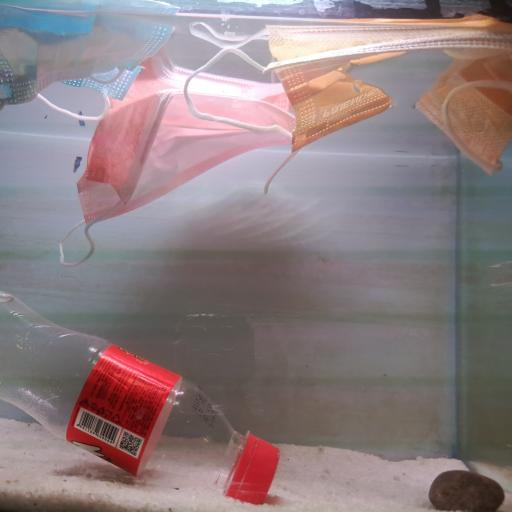bottle_cap: (220, 432, 283, 504)
mask: (184, 23, 512, 176), (67, 50, 313, 247), (0, 6, 174, 114)
plastic_bottle: (0, 291, 284, 512)
